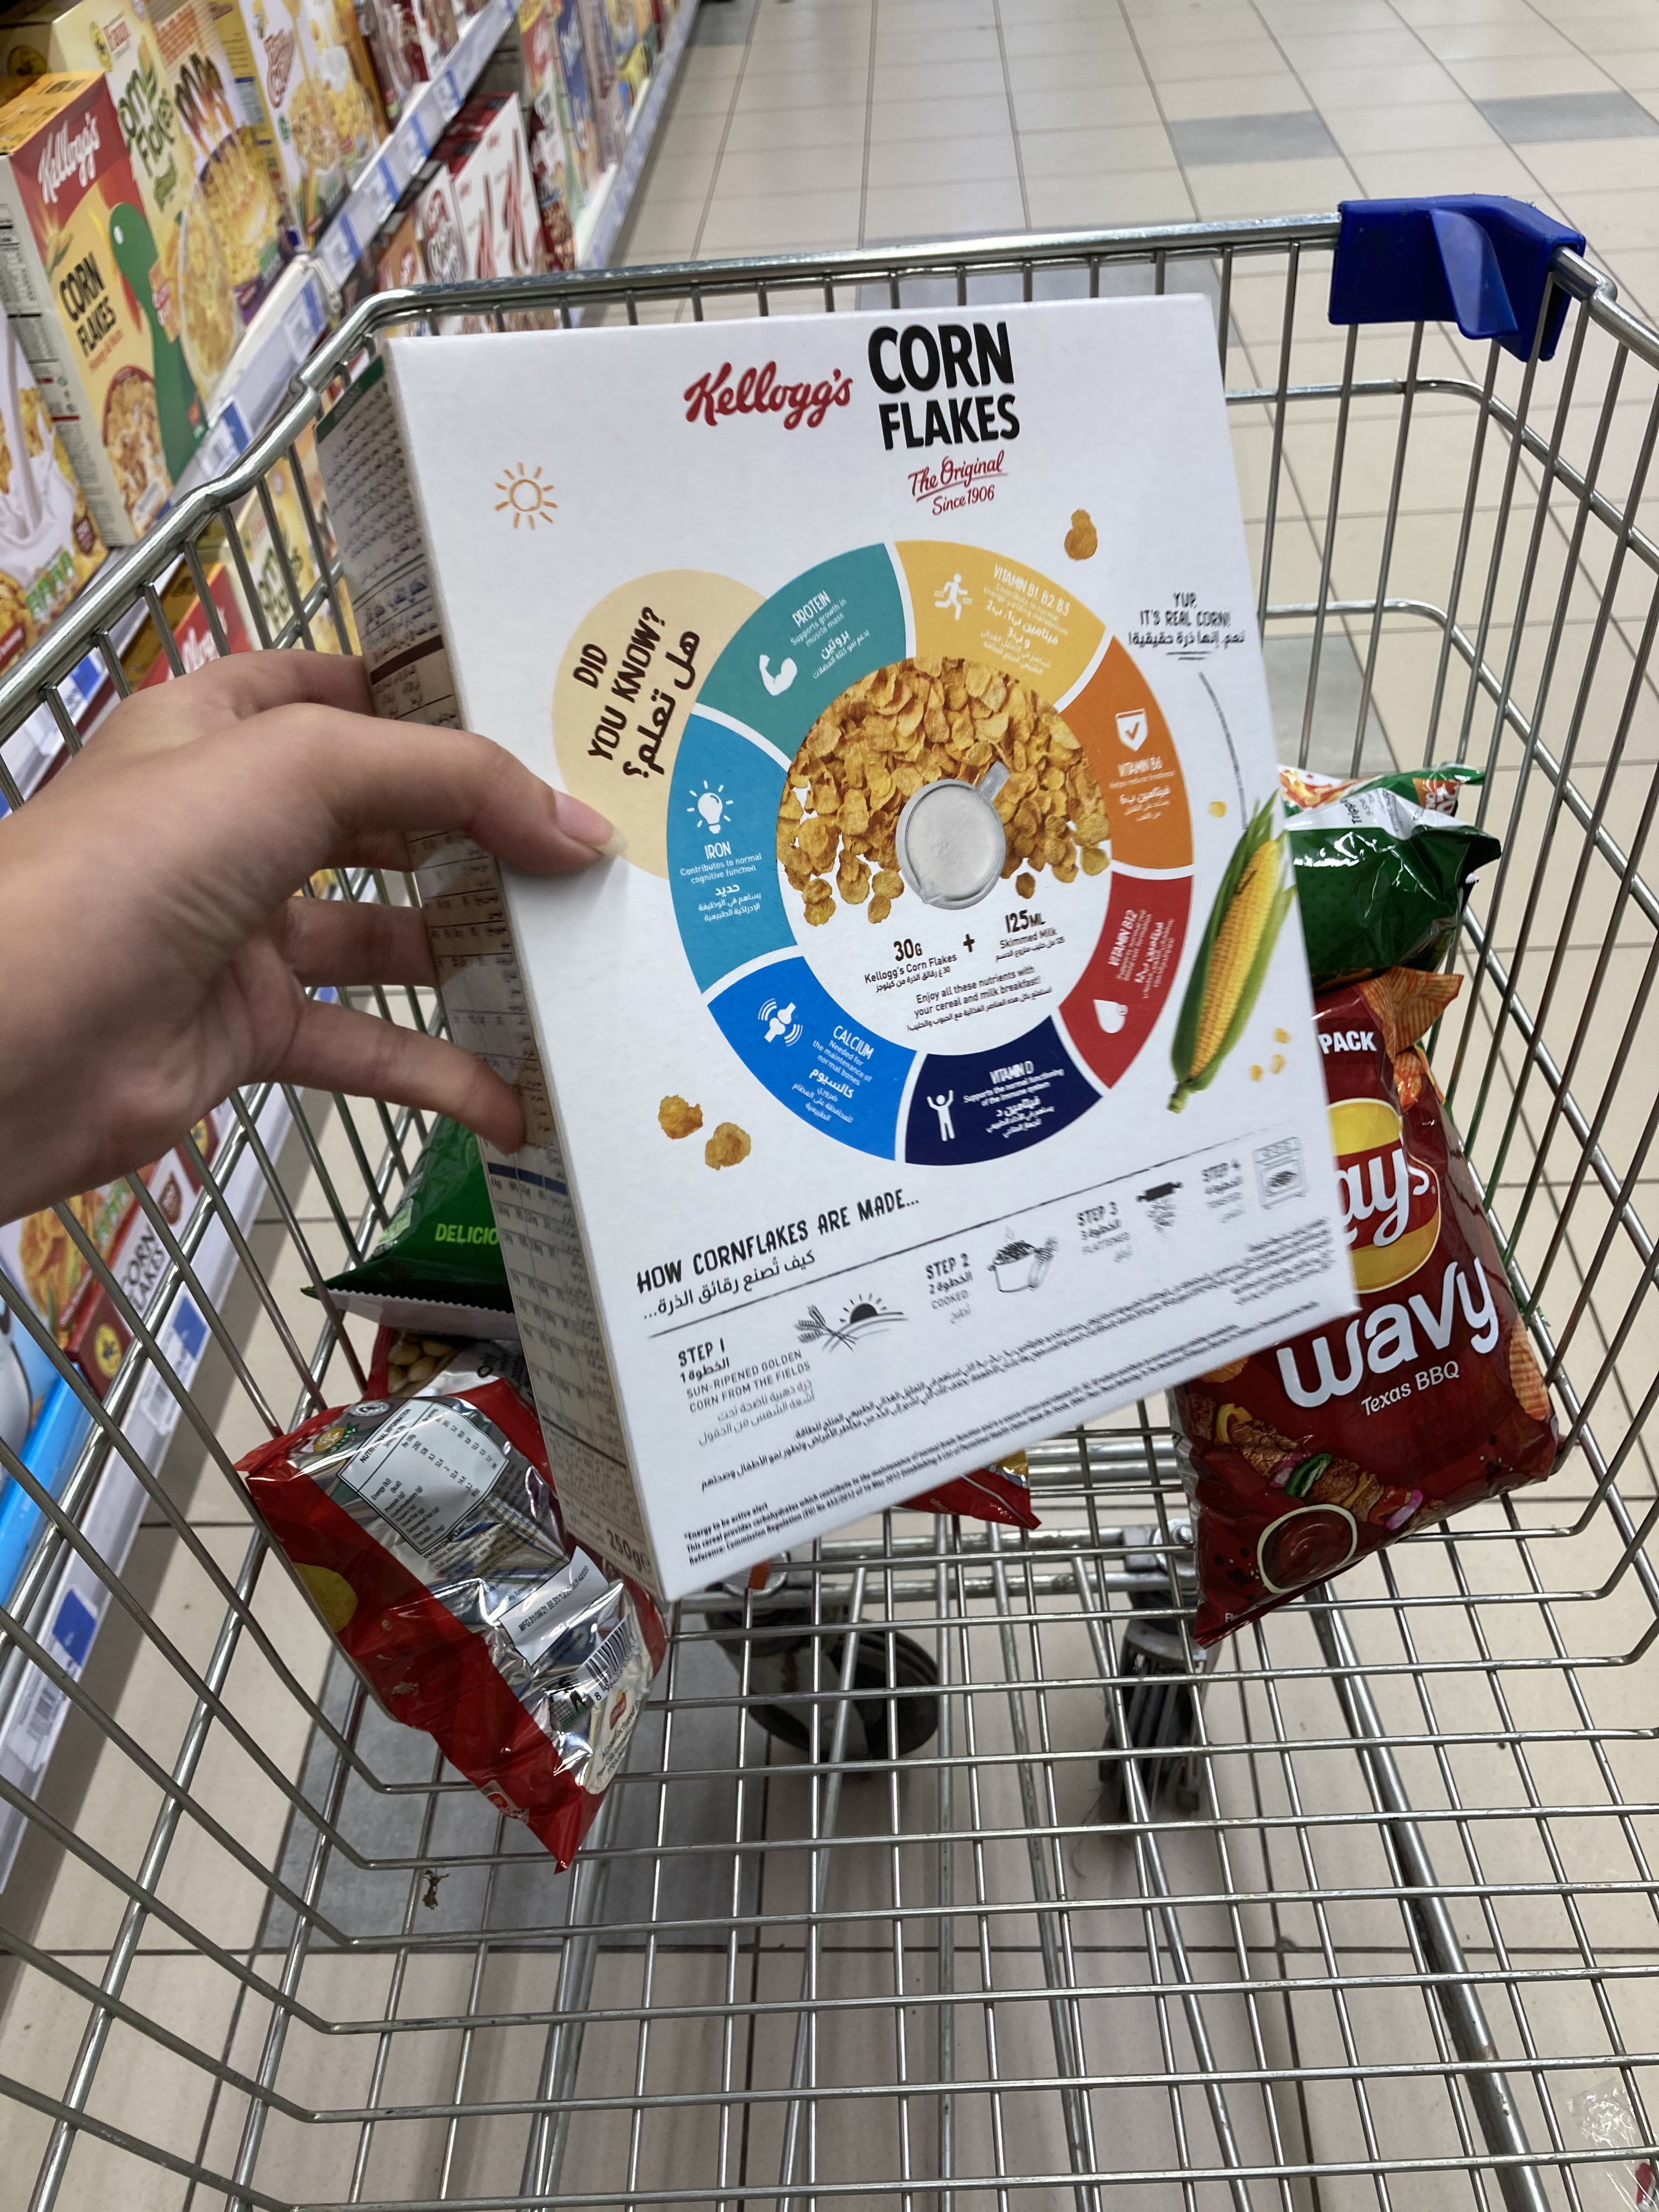Kellogg's Corn Flakes: (300, 289, 1408, 1602)
